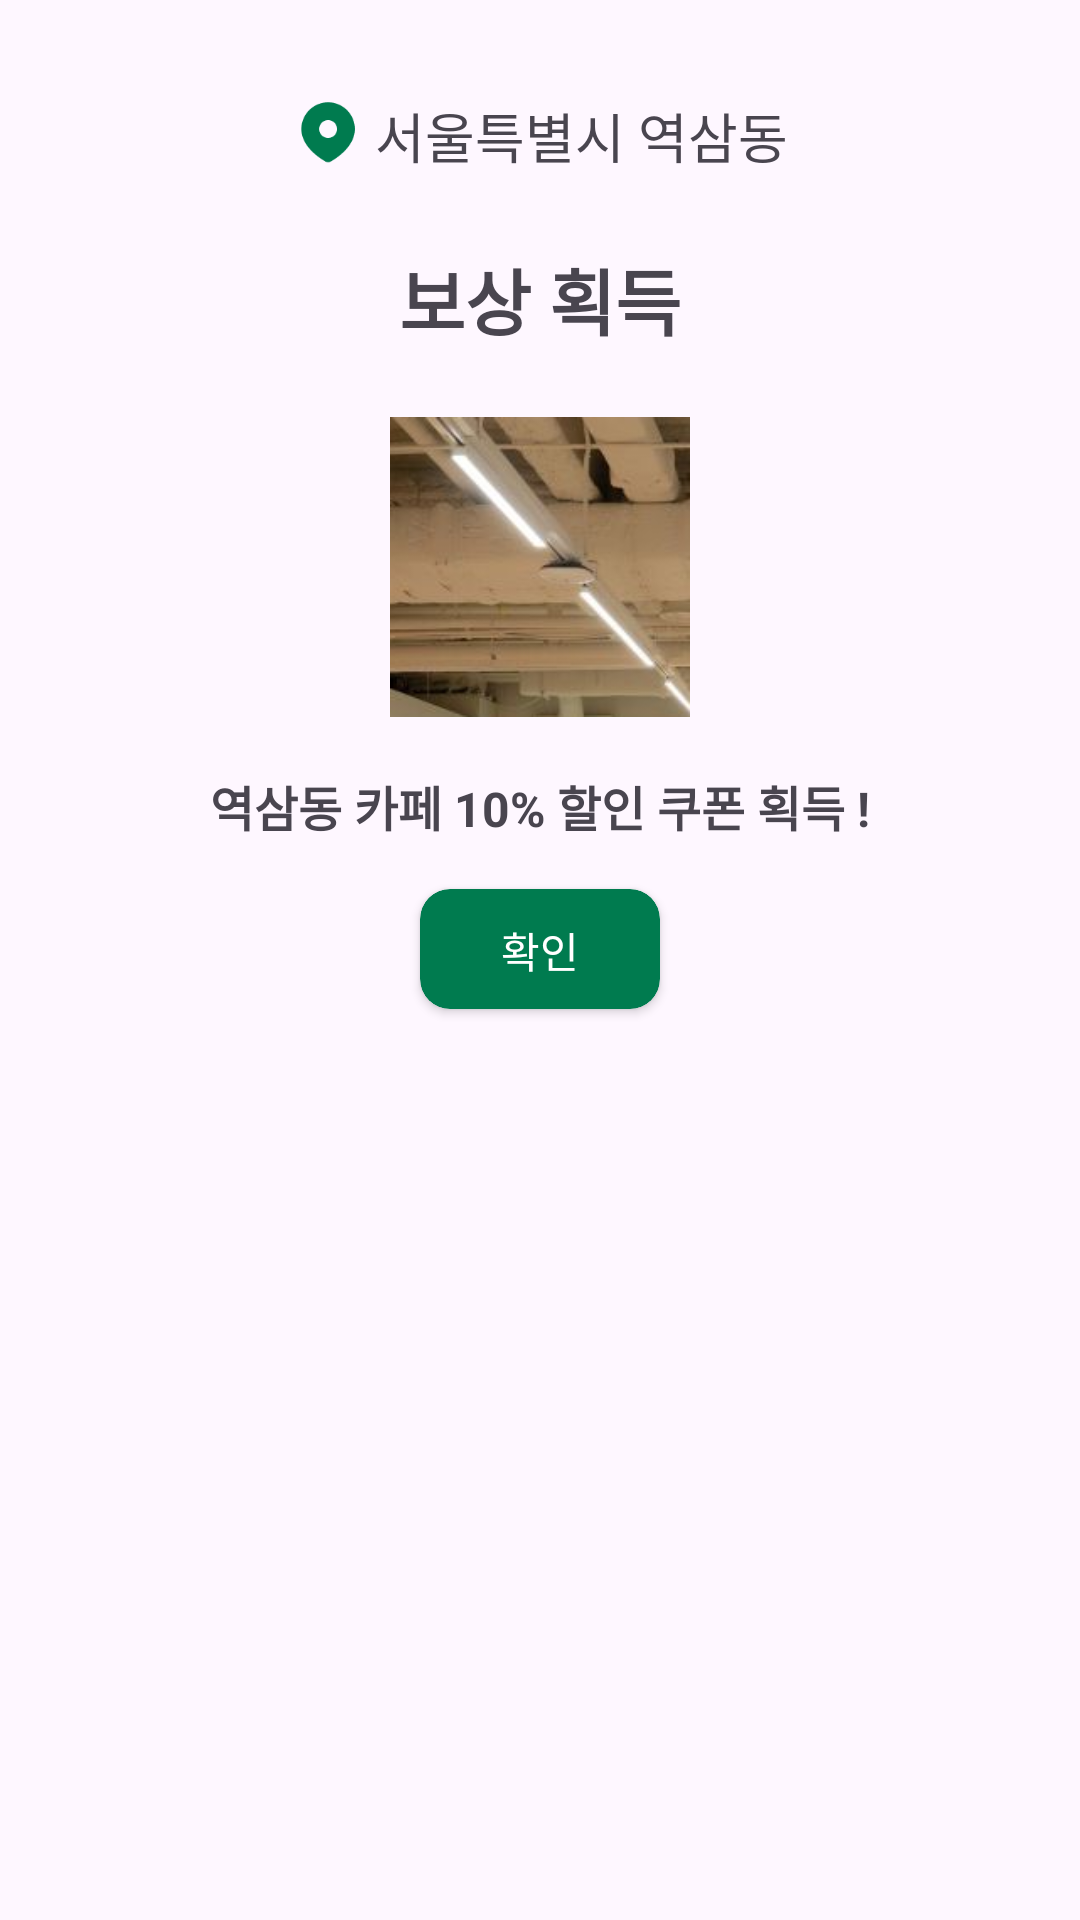

Where to tap for icons on this 1080×1920 app screen, as (x=x, y=y):
location: (x=328, y=132)
